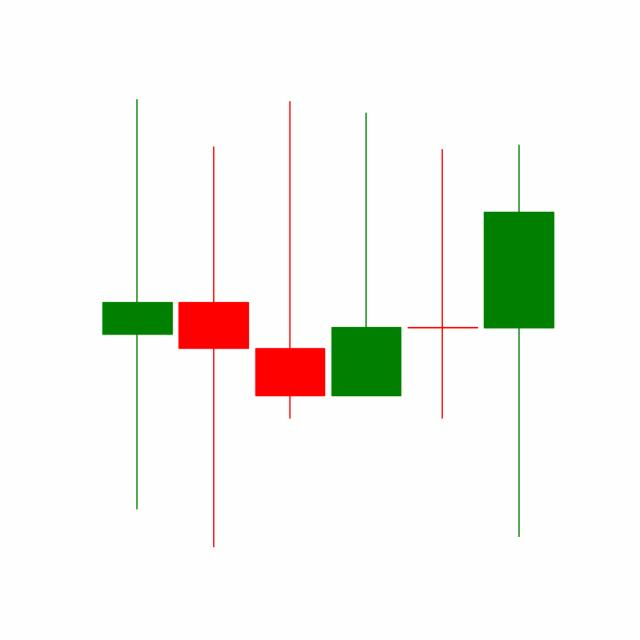Spinning Top: (403, 145, 481, 421)
